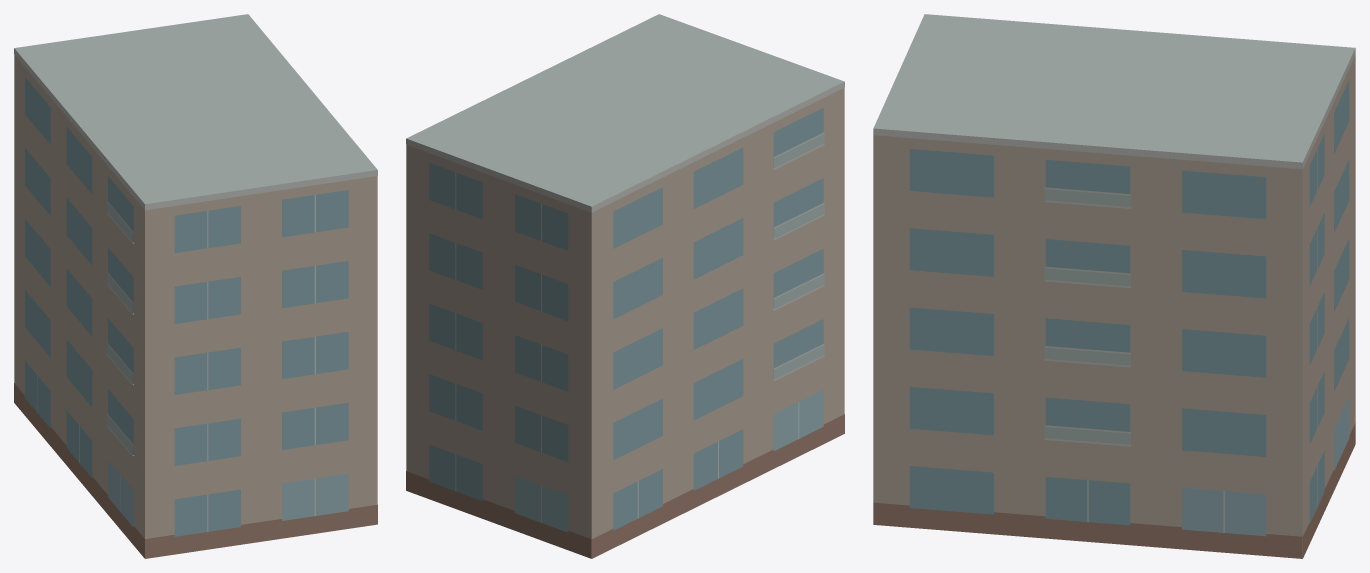
File: survey-upis-32878562.glb
The picture shows the model from 3 angles, left to right: view 1: azimuth 30°, elevation 25°; view 2: azimuth 150°, elevation 25°; view 3: azimuth 270°, elevation 25°; orthographic projection. The views are drawn at different scales.
Parts seen in each view (by area): view 1: survey-upis-32878562.tmp; view 2: survey-upis-32878562.tmp; view 3: survey-upis-32878562.tmp.
Boxes of the visible parts, x1,y1,x2,y2 form: survey-upis-32878562.tmp: [14, 14, 377, 558]; survey-upis-32878562.tmp: [406, 14, 844, 558]; survey-upis-32878562.tmp: [873, 14, 1355, 558].
Bounding box in the file's own units: 11.59 × 14.4 × 15.89.
